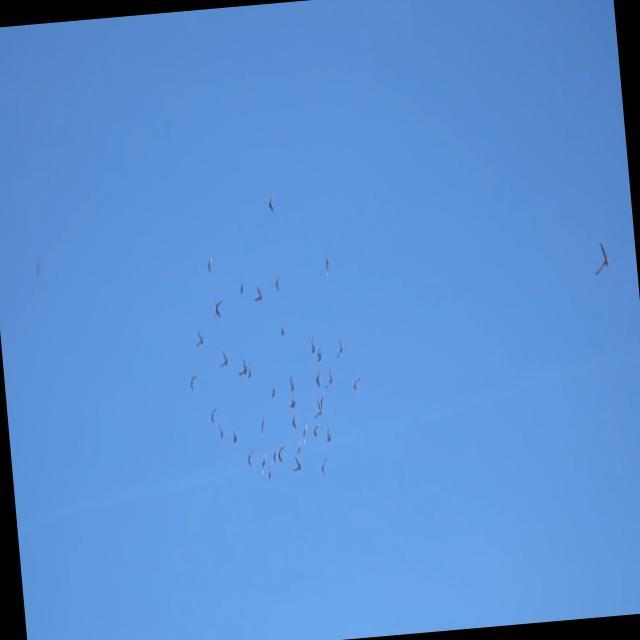bird: (590, 237, 612, 279), (312, 390, 329, 419), (190, 327, 206, 349), (322, 366, 336, 391), (299, 421, 311, 449), (258, 449, 269, 479), (211, 297, 224, 322), (306, 333, 318, 359), (323, 252, 333, 281), (236, 357, 248, 381), (250, 284, 264, 304), (350, 372, 364, 392), (188, 371, 200, 394), (334, 336, 345, 360), (275, 443, 286, 467), (292, 450, 303, 474), (319, 456, 330, 479), (217, 347, 229, 368), (272, 270, 282, 294), (311, 419, 323, 439), (245, 360, 254, 385), (204, 255, 215, 275), (289, 411, 299, 432), (264, 194, 275, 213), (207, 405, 218, 424), (321, 423, 332, 440), (285, 395, 297, 410), (278, 322, 287, 341), (315, 343, 324, 362), (286, 373, 295, 392), (258, 415, 267, 434), (216, 422, 225, 441), (271, 445, 278, 467), (313, 370, 321, 389), (246, 447, 254, 466), (269, 382, 277, 400), (237, 280, 245, 297), (231, 430, 238, 445), (266, 470, 274, 483)
